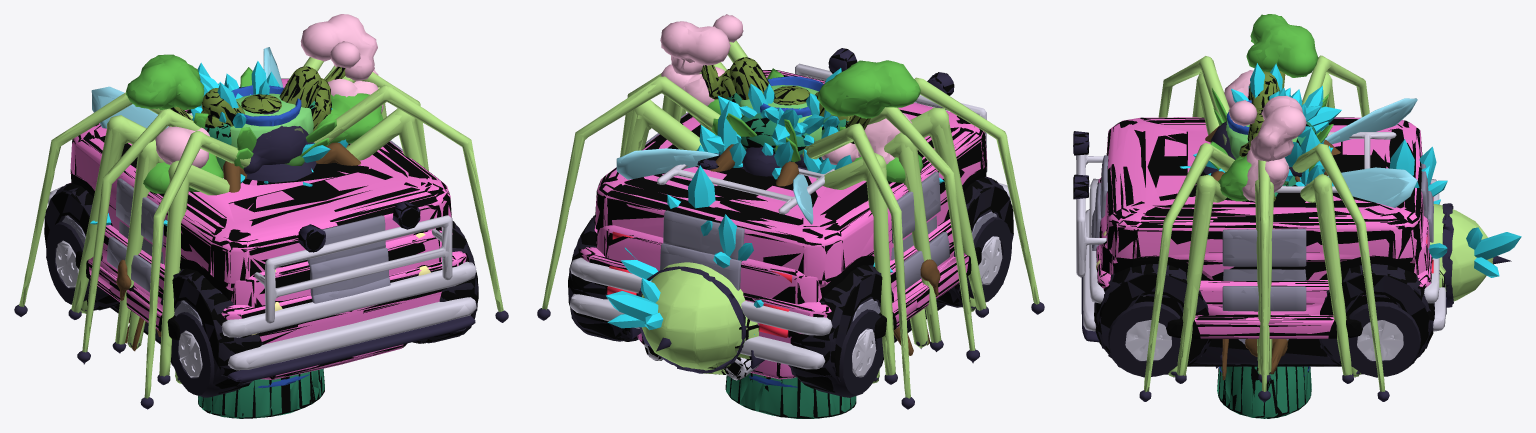
The model's file is chimera.glb.
3 renders of one model, left to right at view 1: azimuth 30°, elevation 25°; view 2: azimuth 150°, elevation 25°; view 3: azimuth 270°, elevation 25°, orthographic. The views are drawn at different scales.
Parts seen in each view (by area): view 1: ch_legs_car_1_hull_ink, ch_legs_car_1_hull, ch_legs_car_1_hull_far, ch_legs_car_0_bumpers, ch_legs_car_1_bumpers, ch_legs_car_1_bullbar, ch_legs_car_2_hull, ch_legs_car_2_splitter, ch_body_sapling_2_blossom2, ch_legs_car_2_hull_ink, ch_body_sapling_0_leaves2, ch_legs_mite_2_legL2_seg (+67 smaller); view 2: ch_legs_car_1_hull_ink, ch_legs_car_1_hull, ch_body_mite_2_body, ch_legs_car_1_hull_far, ch_legs_car_0_hull, ch_body_mite_2_body_twin, ch_body_sapling_0_leaves2, ch_body_sapling_2_blossom2, ch_legs_mite_2_legL0_seg, ch_legs_car_1_bumpers, ch_legs_car_1_wheelLB_tire_ink, ch_legs_mite_2_legR0_seg_far (+67 smaller); view 3: ch_legs_car_1_hull_ink, ch_legs_car_1_hull, ch_legs_car_1_hull_far, ch_legs_car_2_hull_ink, ch_legs_car_2_hull, ch_body_sapling_2_blossom2, ch_body_sapling_0_leaves2, ch_legs_car_1_wheelRF_tire_ink, ch_legs_car_2_wheelRB_tire_far, ch_legs_car_2_wheelRF_tire_far, ch_legs_mite_2_legR2_seg, ch_legs_car_1_mut_armor_17_p0 (+62 smaller).
Part boxes in pixels (box(x1,y1,x2,y2)): ch_legs_car_1_hull_ink: box(70, 78, 451, 300); ch_legs_car_1_hull: box(70, 82, 451, 287); ch_legs_car_1_hull_far: box(70, 79, 452, 290); ch_legs_car_0_bumpers: box(228, 297, 476, 370); ch_legs_car_1_bumpers: box(48, 188, 476, 337); ch_legs_car_1_bullbar: box(254, 215, 452, 323); ch_legs_car_2_hull: box(64, 183, 466, 344); ch_legs_car_2_splitter: box(227, 315, 474, 381); ch_body_sapling_2_blossom2: box(300, 14, 377, 81); ch_legs_car_2_hull_ink: box(75, 227, 466, 344); ch_body_sapling_0_leaves2: box(126, 54, 204, 109); ch_legs_mite_2_legL2_seg: box(144, 131, 250, 398); ch_legs_car_1_hull_ink: box(595, 70, 986, 297); ch_legs_car_1_hull: box(595, 70, 986, 284); ch_body_mite_2_body: box(642, 262, 744, 368); ch_legs_car_1_hull_far: box(594, 73, 987, 287); ch_legs_car_0_hull: box(596, 225, 821, 304); ch_body_mite_2_body_twin: box(643, 263, 745, 368); ch_body_sapling_0_leaves2: box(818, 60, 920, 118); ch_body_sapling_2_blossom2: box(660, 15, 743, 75); ch_legs_mite_2_legL0_seg: box(802, 123, 910, 398); ch_legs_car_1_bumpers: box(570, 182, 1010, 335); ch_legs_car_1_wheelLB_tire_ink: box(790, 265, 893, 392); ch_legs_mite_2_legR0_seg_far: box(542, 77, 720, 310); ch_legs_car_1_hull_ink: box(1106, 117, 1422, 280); ch_legs_car_1_hull: box(1105, 117, 1423, 280); ch_legs_car_1_hull_far: box(1106, 117, 1421, 279); ch_legs_car_2_hull_ink: box(1096, 179, 1432, 338); ch_legs_car_2_hull: box(1096, 178, 1431, 338); ch_body_sapling_2_blossom2: box(1229, 95, 1306, 161); ch_body_sapling_0_leaves2: box(1246, 14, 1317, 77); ch_legs_car_1_wheelRF_tire_ink: box(1094, 264, 1211, 366); ch_legs_car_2_wheelRB_tire_far: box(1348, 302, 1420, 377); ch_legs_car_2_wheelRF_tire_far: box(1108, 302, 1180, 377); ch_legs_mite_2_legR2_seg: box(1144, 142, 1234, 392); ch_legs_car_1_mut_armor_17_p0: box(1222, 229, 1306, 266).
Size of the model in its own units: 1.24 by 1.14 by 1.4.
